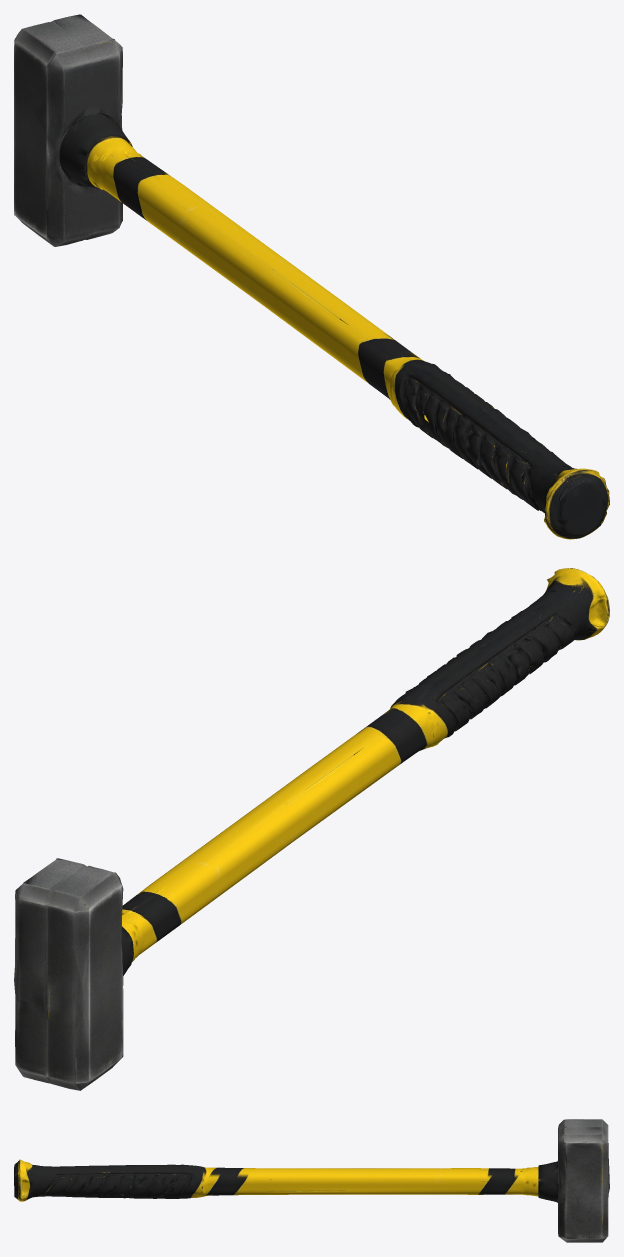
Rendered from weapon-sledgehammer.glb.
3 views of the same model, one above another, from view 1: azimuth 30°, elevation 25°; view 2: azimuth 150°, elevation 25°; view 3: azimuth 270°, elevation 25° (orthographic). The views are drawn at different scales.
Visible parts, largest first — view 1: sledgehammer; view 2: sledgehammer; view 3: sledgehammer.
Boxes of the visible parts, bbox=[...] form: sledgehammer: bbox=[14, 14, 609, 539]; sledgehammer: bbox=[14, 568, 609, 1090]; sledgehammer: bbox=[14, 1119, 609, 1242].
Bounding box in the file's own units: 0.0754 × 0.1844 × 0.92.
1 material, 1 textured.
